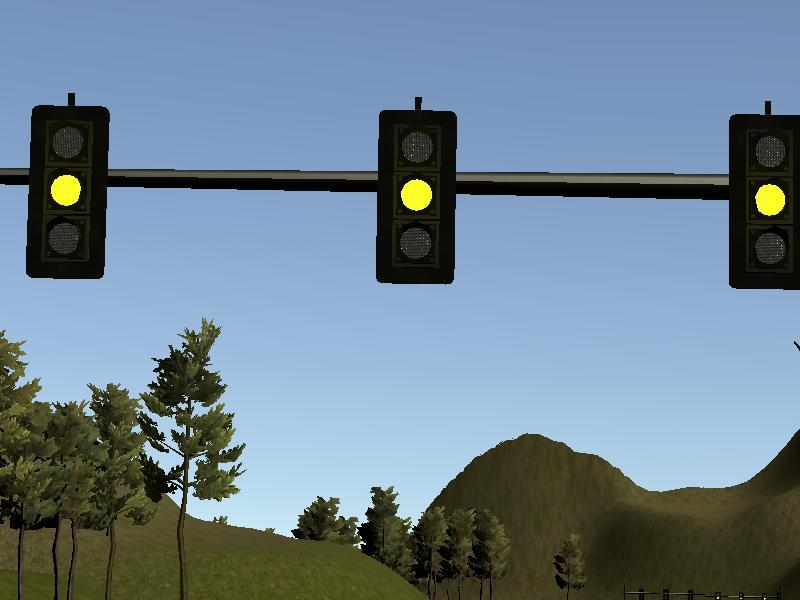Yellow: (376, 109, 455, 283), (28, 104, 107, 277), (729, 116, 799, 286)
